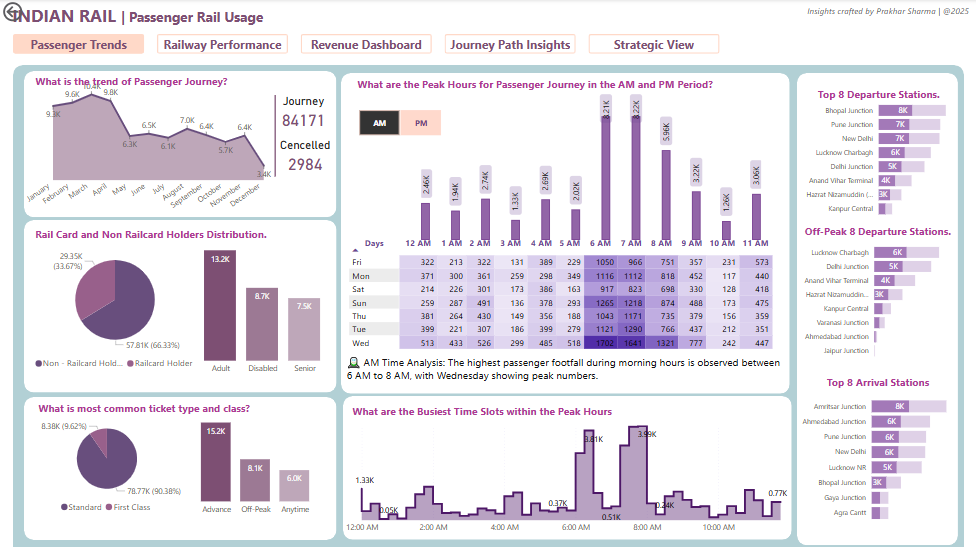

The dashboard page shown, as its layout file describes it:
{"tool":"powerbi","page":{"name":"Passenger Trends","canvas":[1536,864],"ordinal":0},"visuals":[{"type":"shape","box":[20,104,1494,760],"z":0},{"type":"textbox","box":[13.8,1.2,462.5,60],"z":1000},{"type":"shape","box":[38.1,112.4,490.8,229.8],"z":2000},{"type":"areaChart","fields":{"Category":["Train Dataset.Date of Purchase.Variation.Date Hierarchy.Month"],"Y":["Train Dataset.Count of Transaction ID total for Departure Station"]},"box":[32,112,400,240],"z":3000},{"type":"actionButton","box":[-0.7,0.7,100,40],"z":4000},{"type":"textbox","box":[50.1,112.4,349,50],"z":5000},{"type":"shape","box":[416.8,150.7,32,128],"z":6000},{"type":"kpi","title":"Journey","fields":{"TrendLine":["Train Dataset.Refund Request"],"Indicator":["CountNonNull(Train Dataset.Refund Request)"]},"box":[439,149.8,76.7,61.1],"z":7000},{"type":"kpi","title":"Cencelled","fields":{"TrendLine":["Train Dataset.Refund Request"],"Indicator":["CountNonNull(Train Dataset.Refund Request)"]},"box":[432.3,218.6,94.4,62.2],"z":8000},{"type":"shape","box":[38.1,347.4,491,271],"z":10000},{"type":"pieChart","fields":{"Y":["CountNonNull(Train Dataset.Railcard Holder)"],"Category":["Train Dataset.Railcard Holder"]},"box":[48.8,382.7,264,208],"z":11000},{"type":"columnChart","fields":{"Category":["Train Dataset.Railcard"],"Y":["CountNonNull(Train Dataset.Railcard)"]},"box":[288.8,358.7,248,240],"z":12000},{"type":"textbox","box":[49.5,353.2,431.2,33.8],"z":14000},{"type":"shape","box":[38.1,625.6,490.8,224.6],"z":15000},{"type":"pieChart","fields":{"Category":["Train Dataset.Ticket Class"],"Y":["CountNonNull(Train Dataset.Ticket Class)"]},"box":[0,656,336,160],"z":16000},{"type":"textbox","box":[55.1,627.4,461,44],"z":17000},{"type":"columnChart","fields":{"Category":["Train Dataset.Ticket Type"],"Y":["CountNonNull(Train Dataset.Ticket Type)"]},"box":[286.1,625.4,232,194],"z":18000},{"type":"shape","box":[536.2,116.2,705,503.8],"z":20000},{"type":"pivotTable","fields":{"Rows":["Train Dataset.Day Name (DOJ)"],"Columns":["Train Dataset.Start of Hour (Departure)"],"Values":["CountNonNull(Train Dataset.Hour (Time of Purchase))"]},"box":[543.3,368.3,685,191.7],"z":21000},{"type":"clusteredColumnChart","fields":{"Category":["Train Dataset.Day Name (DOJ)","Train Dataset.Start of Hour (Departure)"],"Y":["CountNonNull(Train Dataset.Hour (Time of Purchase))"]},"box":[656,144,544,240],"z":22000},{"type":"textbox","box":[555.5,118,628.2,50],"z":23000},{"type":"slicer","fields":{"Values":["Train Dataset.Last Characters"]},"box":[543.3,173.3,168.3,43.3],"z":24000},{"type":"shape","box":[539,624,705,226],"z":25000},{"type":"areaChart","fields":{"Category":["Train Dataset.Departure Time"],"Y":["CountNonNull(Train Dataset.Transaction ID)"]},"box":[538,656,720,192],"z":26000},{"type":"textbox","box":[548,631,464,48],"z":27000},{"type":"shape","box":[1252.7,116.4,252.7,741.8],"z":29000},{"type":"barChart","fields":{"Category":["Train Dataset.Departure Station"],"Y":["CountNonNull(Train Dataset.Departure Time)","CountNonNull(Train Dataset.Transaction ID)"]},"box":[1248,144,272,208],"z":30000},{"type":"textbox","box":[1254.5,133.6,250.9,33.6],"z":31000},{"type":"barChart","fields":{"Category":["Train Dataset.Departure Station"],"Y":["CountNonNull(Train Dataset.Departure Time)","CountNonNull(Train Dataset.Transaction ID)"]},"box":[1248,368,256,208],"z":32000},{"type":"textbox","box":[1253.6,348.2,250.9,33.6],"z":33000},{"type":"textbox","box":[1253.3,585.6,251.1,34.4],"z":34000},{"type":"barChart","fields":{"Y":["CountNonNull(Train Dataset.Departure Time)","CountNonNull(Train Dataset.Transaction ID)"],"Category":["Train Dataset.Arrival Destination"]},"box":[1248,608,272,224],"z":35000},{"type":"pageNavigator","box":[20,55.7,1114.3,31.4],"z":36000},{"type":"textbox","box":[1263.2,5.2,269.6,46.7],"z":37000},{"type":"cardVisual","fields":{"Data":["Train Dataset.Selected_Paragraph"]},"box":[528,528,720,96],"z":38000}]}

Visuals, with their boxes in screenshot pixels (x1, y1, x2, y2), scaled from the page's 1536x864 canvas onto the 976x547 screenshot:
shape: <bbox>13, 66, 962, 546</bbox>
textbox: <bbox>9, 1, 303, 39</bbox>
shape: <bbox>24, 71, 336, 217</bbox>
areaChart - Train Dataset.Date of Purchase.Variation.Date Hierarchy.Month x Train Dataset.Count of Transaction ID total for Departure Station: <bbox>20, 71, 274, 223</bbox>
actionButton: <bbox>0, 0, 63, 26</bbox>
textbox: <bbox>32, 71, 254, 103</bbox>
shape: <bbox>265, 95, 285, 176</bbox>
"Journey" kpi: <bbox>279, 95, 328, 134</bbox>
"Cencelled" kpi: <bbox>275, 138, 335, 178</bbox>
shape: <bbox>24, 220, 336, 392</bbox>
pieChart - CountNonNull(Train Dataset.Railcard Holder) x Train Dataset.Railcard Holder: <bbox>31, 242, 199, 374</bbox>
columnChart - Train Dataset.Railcard x CountNonNull(Train Dataset.Railcard): <bbox>184, 227, 341, 379</bbox>
textbox: <bbox>31, 224, 305, 245</bbox>
shape: <bbox>24, 396, 336, 538</bbox>
pieChart - Train Dataset.Ticket Class x CountNonNull(Train Dataset.Ticket Class): <bbox>0, 415, 214, 517</bbox>
textbox: <bbox>35, 397, 328, 425</bbox>
columnChart - Train Dataset.Ticket Type x CountNonNull(Train Dataset.Ticket Type): <bbox>182, 396, 329, 519</bbox>
shape: <bbox>341, 74, 789, 393</bbox>
pivotTable - Train Dataset.Day Name (DOJ) x Train Dataset.Start of Hour (Departure): <bbox>345, 233, 780, 355</bbox>
clusteredColumnChart - Train Dataset.Day Name (DOJ) x Train Dataset.Start of Hour (Departure): <bbox>417, 91, 762, 243</bbox>
textbox: <bbox>353, 75, 752, 106</bbox>
slicer - Train Dataset.Last Characters: <bbox>345, 110, 452, 137</bbox>
shape: <bbox>342, 395, 790, 538</bbox>
areaChart - Train Dataset.Departure Time x CountNonNull(Train Dataset.Transaction ID): <bbox>342, 415, 799, 537</bbox>
textbox: <bbox>348, 399, 643, 430</bbox>
shape: <bbox>796, 74, 957, 543</bbox>
barChart - Train Dataset.Departure Station x CountNonNull(Train Dataset.Departure Time): <bbox>793, 91, 966, 223</bbox>
textbox: <bbox>797, 85, 957, 106</bbox>
barChart - Train Dataset.Departure Station x CountNonNull(Train Dataset.Departure Time): <bbox>793, 233, 956, 365</bbox>
textbox: <bbox>797, 220, 956, 242</bbox>
textbox: <bbox>796, 371, 956, 393</bbox>
barChart - CountNonNull(Train Dataset.Departure Time) x CountNonNull(Train Dataset.Transaction ID): <bbox>793, 385, 966, 527</bbox>
pageNavigator: <bbox>13, 35, 721, 55</bbox>
textbox: <bbox>803, 3, 974, 33</bbox>
cardVisual - Train Dataset.Selected_Paragraph: <bbox>336, 334, 793, 395</bbox>
